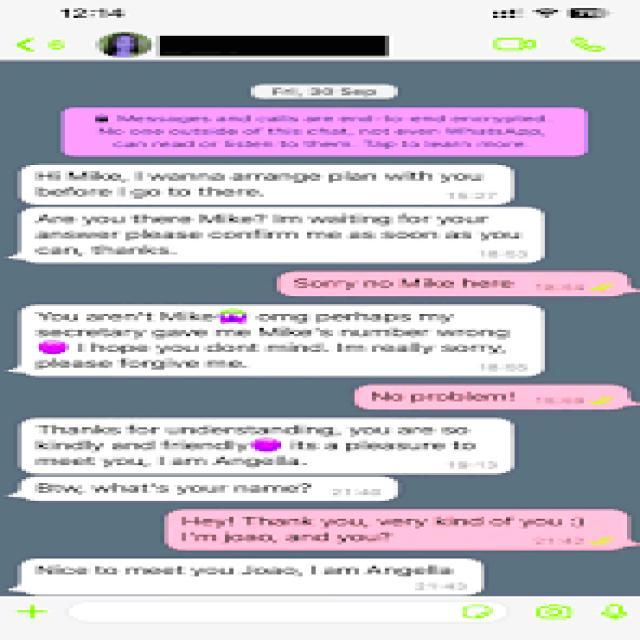scam: (27, 305, 540, 374), (23, 416, 516, 474), (18, 209, 532, 258), (16, 163, 518, 203), (26, 554, 484, 593), (37, 478, 372, 499)
